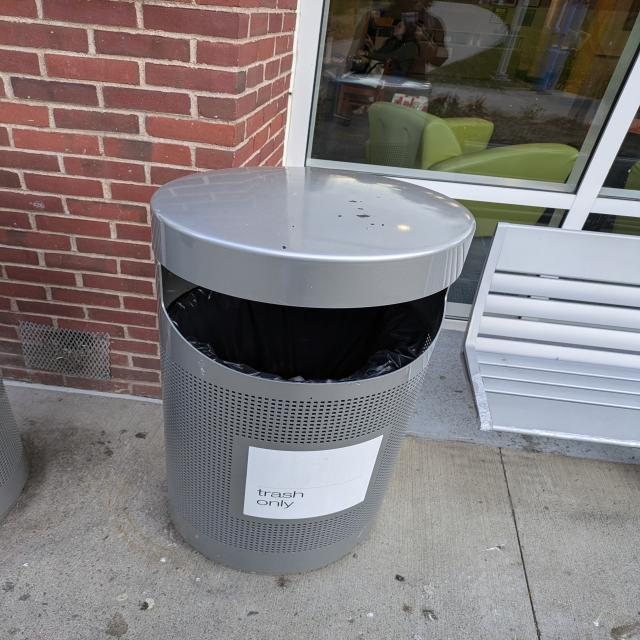Filiform Corrosion: (352, 207, 372, 219), (350, 201, 357, 204), (359, 201, 363, 204)
